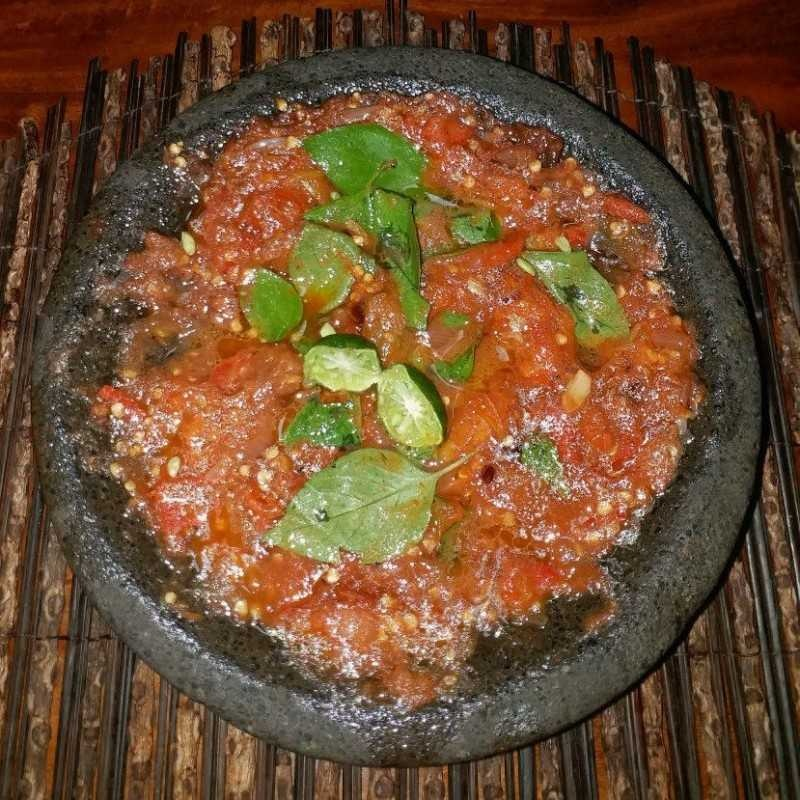sambal: (104, 95, 702, 705)
